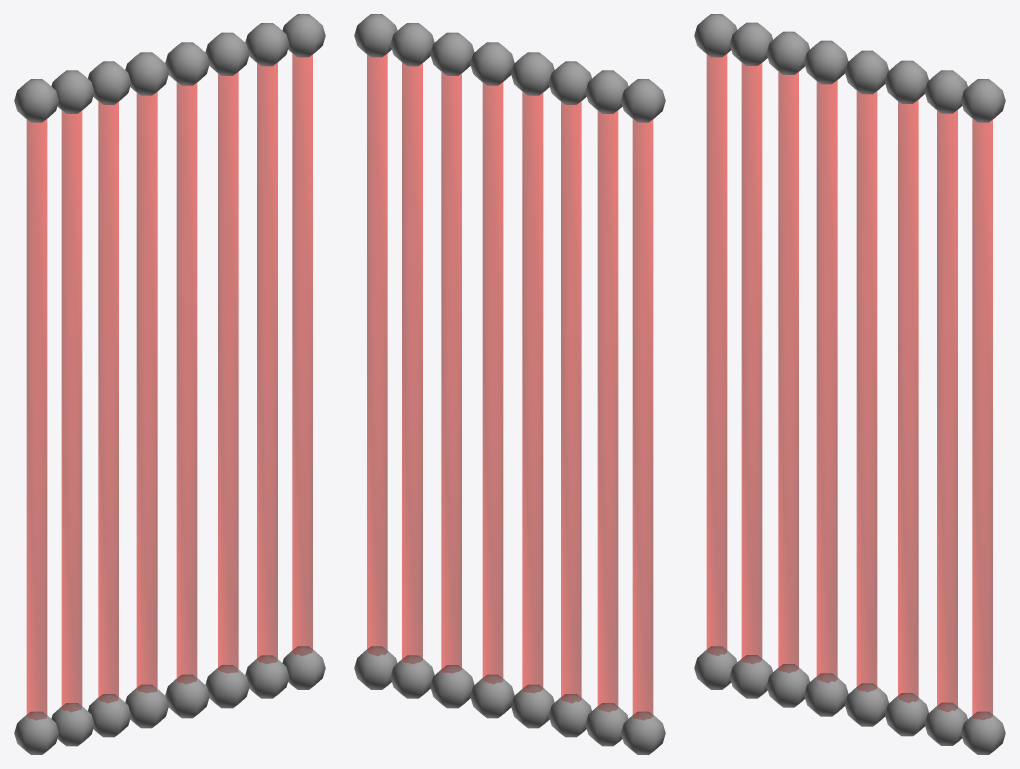
Rendered from Obstaculo_LaserRojo.fbx.
The picture shows the model from 3 angles, left to right: view 1: azimuth 30°, elevation 25°; view 2: azimuth 150°, elevation 25°; view 3: azimuth 330°, elevation 25°; orthographic projection.
Parts seen in each view (by area): view 1: Lasers.001; view 2: Lasers.001; view 3: Lasers.001.
Part boxes in pixels (x1,y1,x2,y2): Lasers.001: (14, 14, 325, 754); Lasers.001: (354, 14, 665, 754); Lasers.001: (694, 14, 1005, 754).
Size of the model in its own units: 237 by 508 by 30.7.
